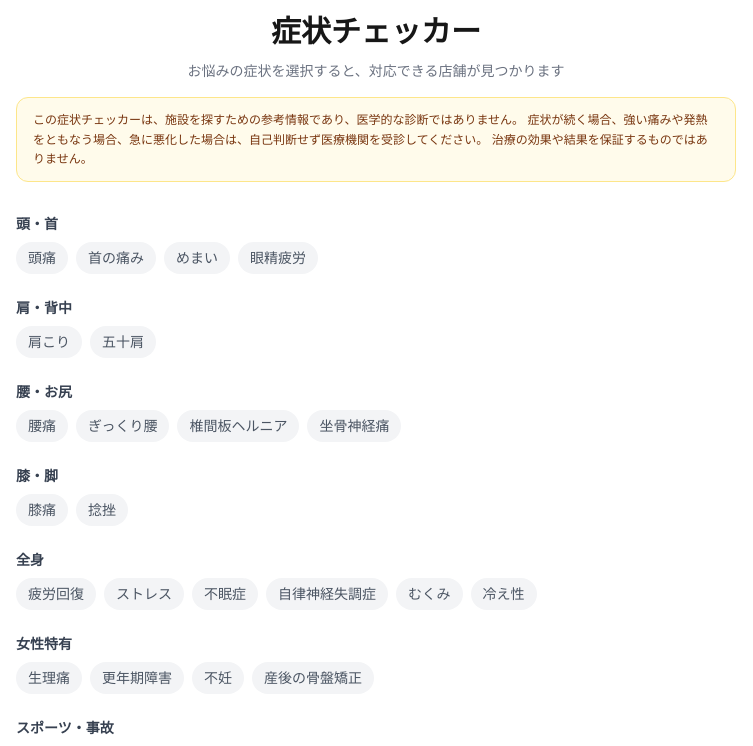
Test: 件数は公開中の施設だけを数える
This screenshot has width=753, height=746.
Click the button "腰痛" at {"x": 42, "y": 426}, box x1=16 y1=410 x2=68 y2=442
(page scrolled)
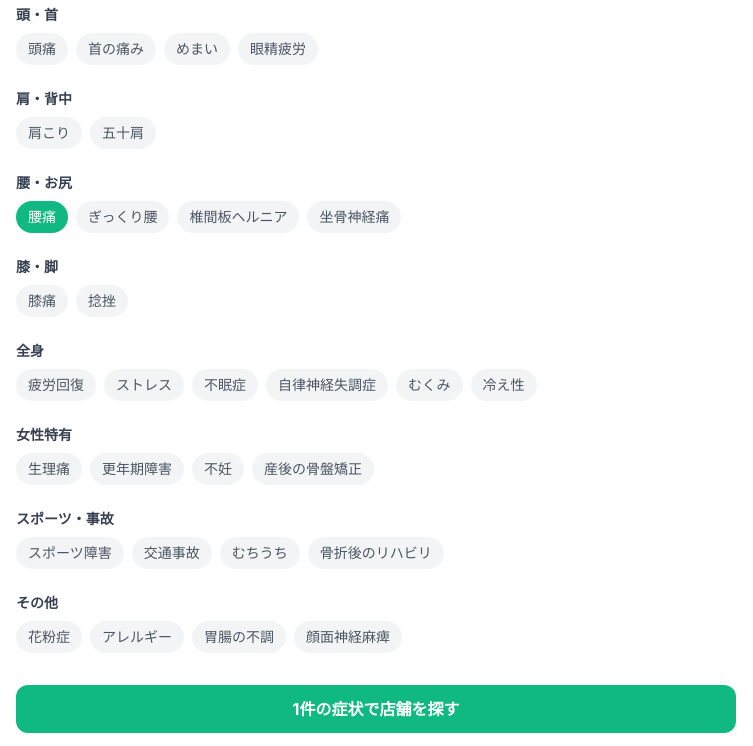
Click the button "1件の症状で店舗を探す" at {"x": 376, "y": 708}, box x1=16 y1=684 x2=736 y2=732
(page scrolled)
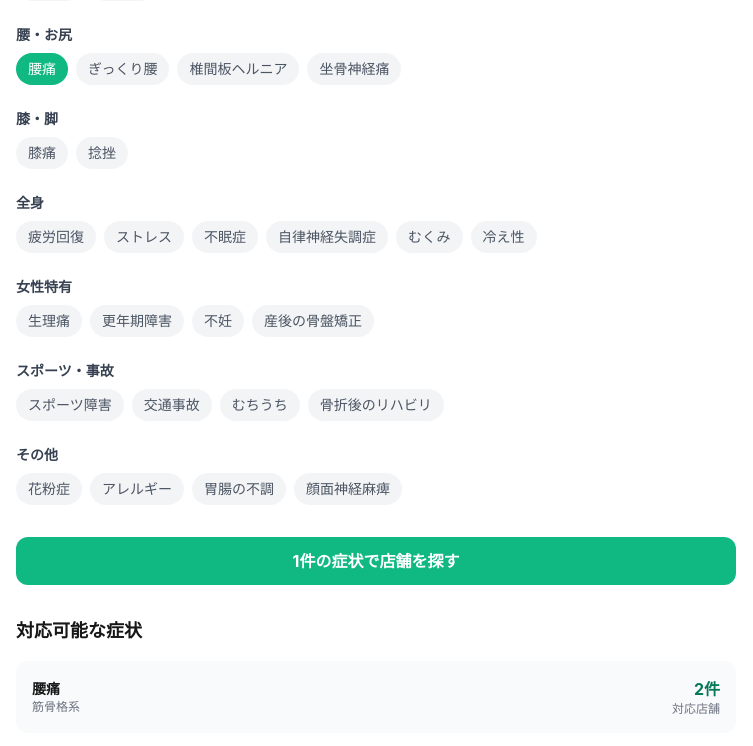
Expected: the heading "対応可能な症状" is shown, x1=16 y1=620 x2=142 y2=640
Expected: the text "2件" is shown, x1=694 y1=678 x2=720 y2=698
